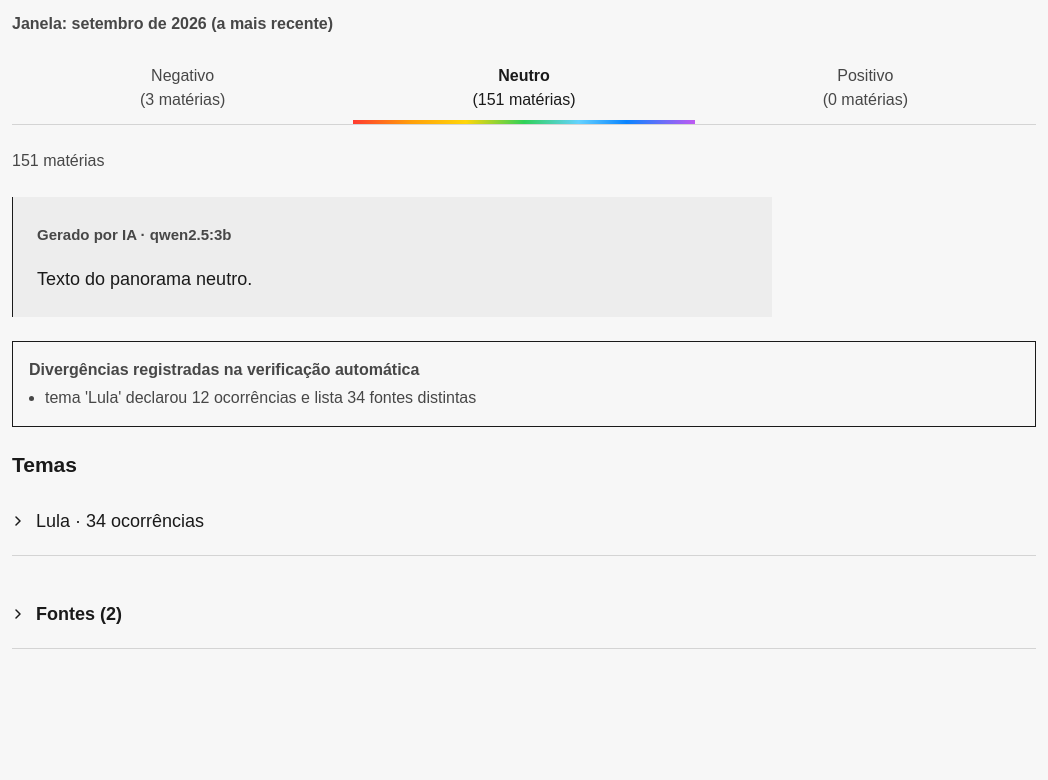
it: PanoramaAbas › mostra mensagem para eixo ausente na resposta
Click the tab "Positivo (0 matérias)": (865, 88) [695,52,1036,124]
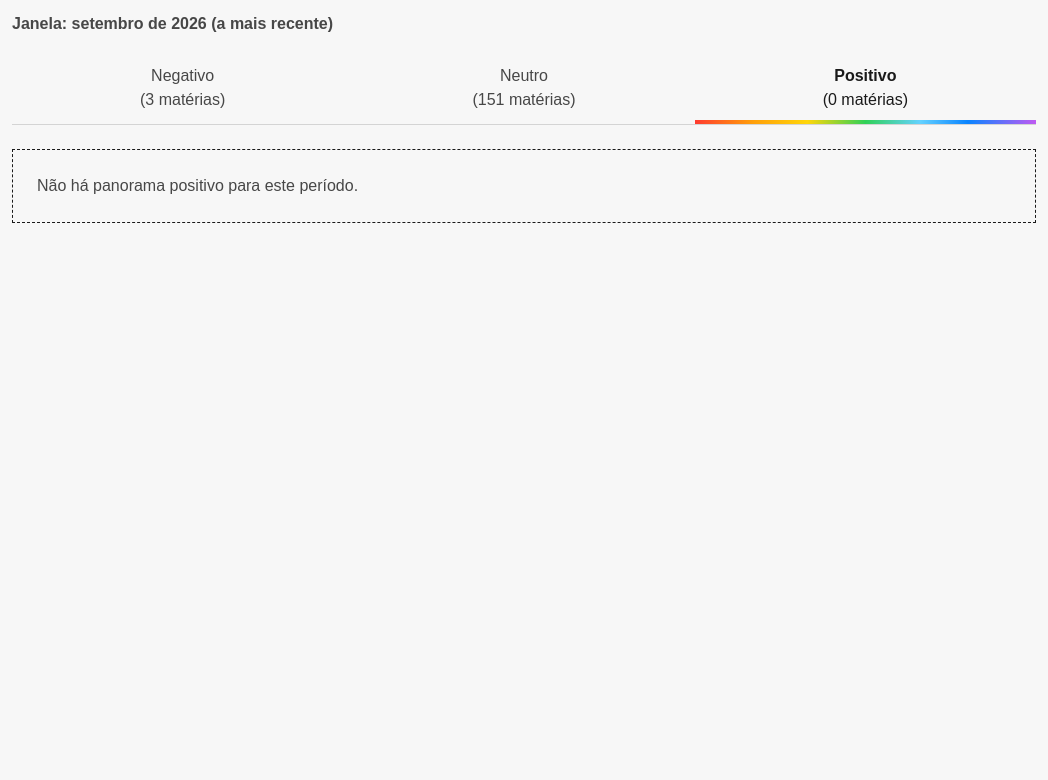
Check: the text "Não há panorama positivo para este período." is shown, box [12,149,1036,223]
